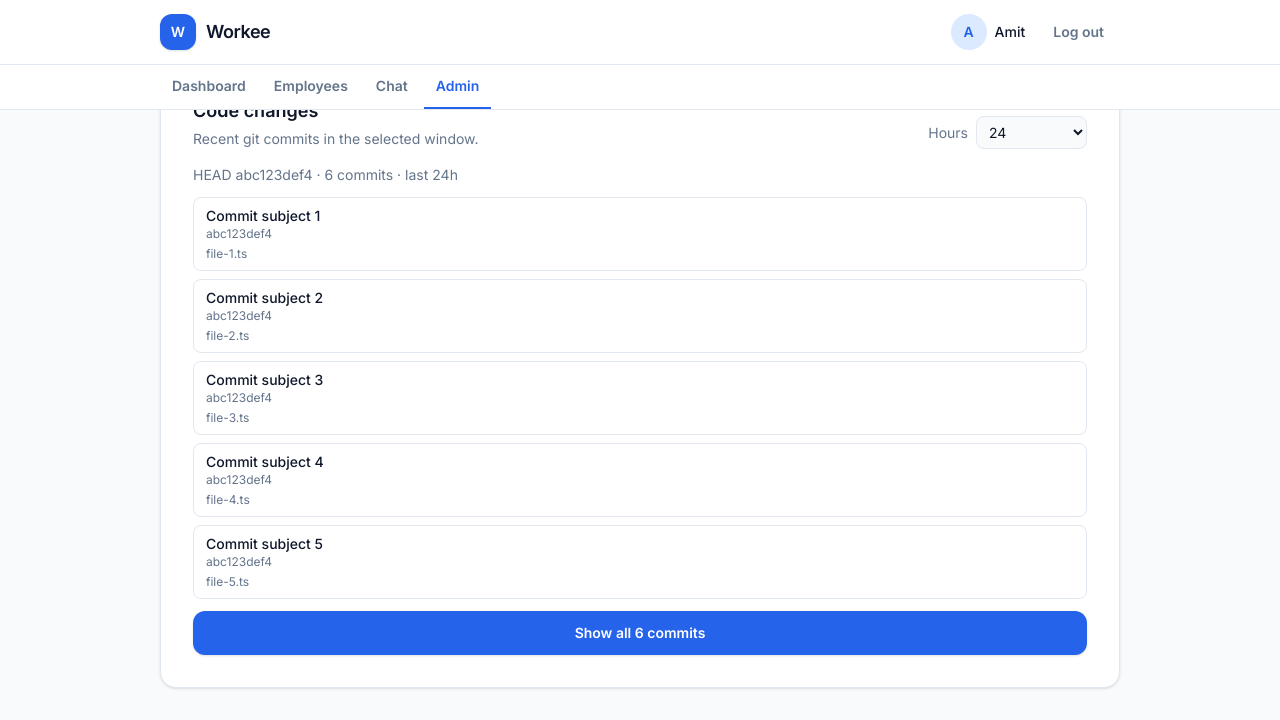
Test case: Admin page › previews five commits and expands to show all
(page scrolled)
Expected: the text "Commit subject 1" is shown, left=206, top=207, right=320, bottom=224
Expected: the text "Commit subject 5" is shown, left=206, top=535, right=323, bottom=552
Click the button with test id "admin-code-expand". click: (640, 633)
box: left=193, top=611, right=1087, bottom=655
(page scrolled)
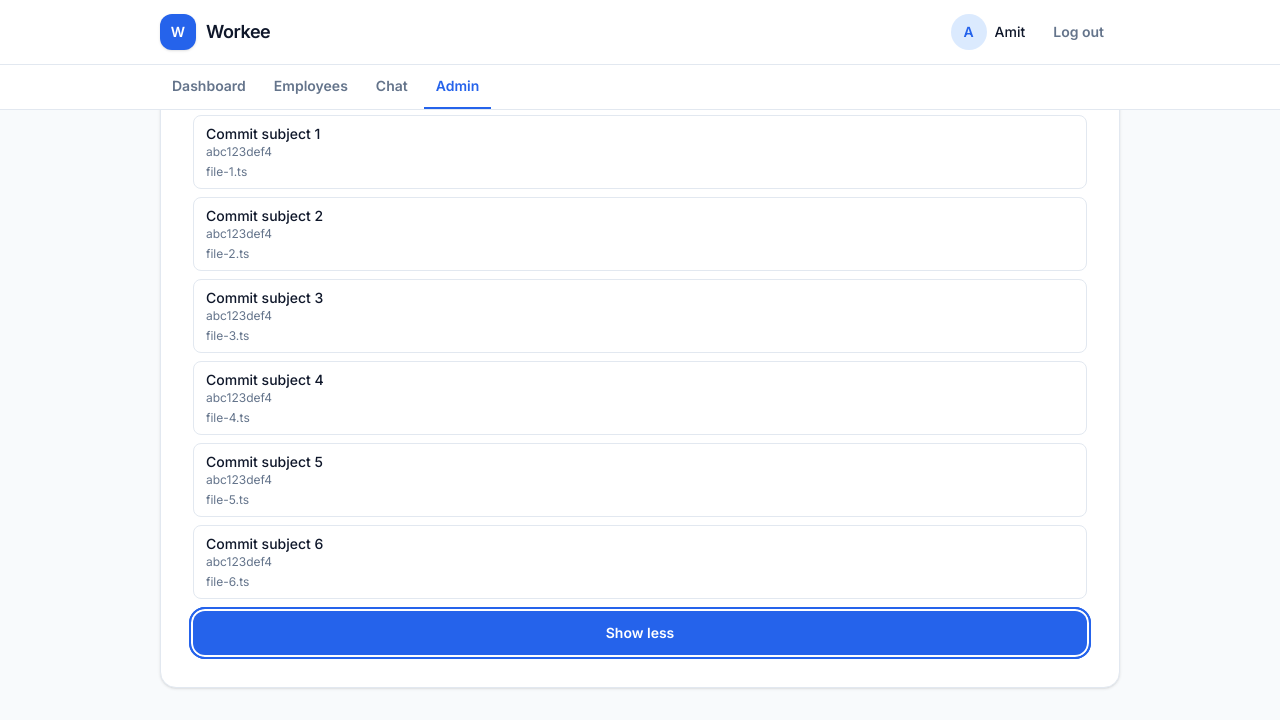
Expected: the text "Commit subject 6" is shown, left=206, top=535, right=323, bottom=552
Expected: the button with test id "admin-code-expand" reads "Show less", left=193, top=611, right=1087, bottom=655
